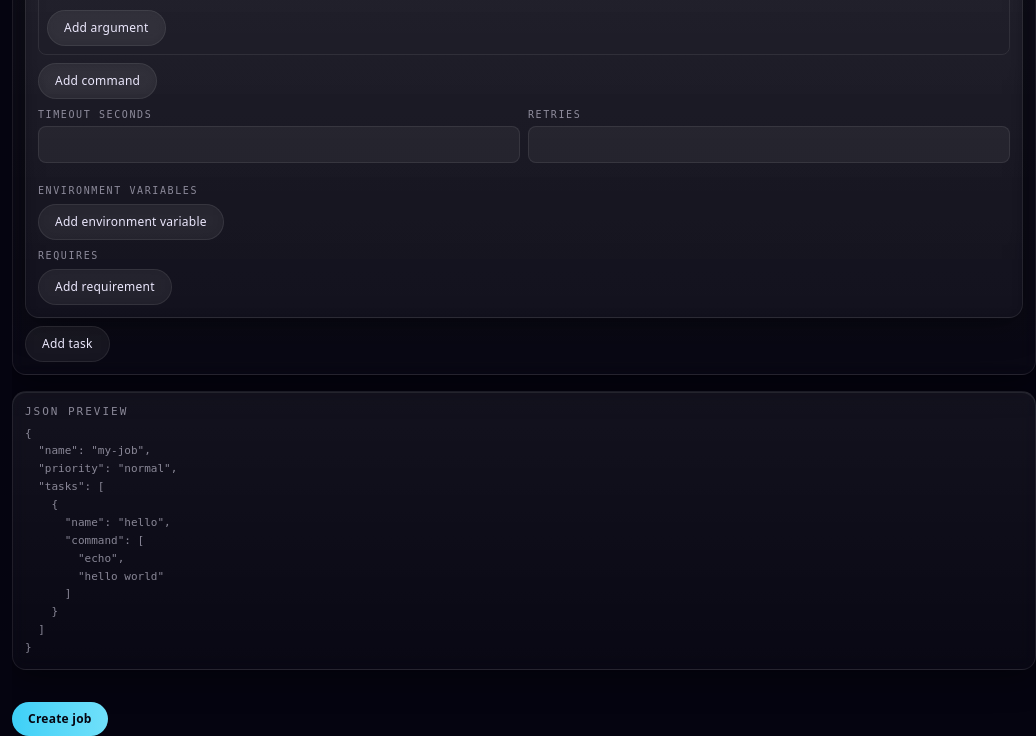
Test: the alert carries the server string verbatim, whatever its status
(page scrolled)
Click the button "Create job". click: click(60, 719)
box: [12,702,108,735]
(page scrolled)
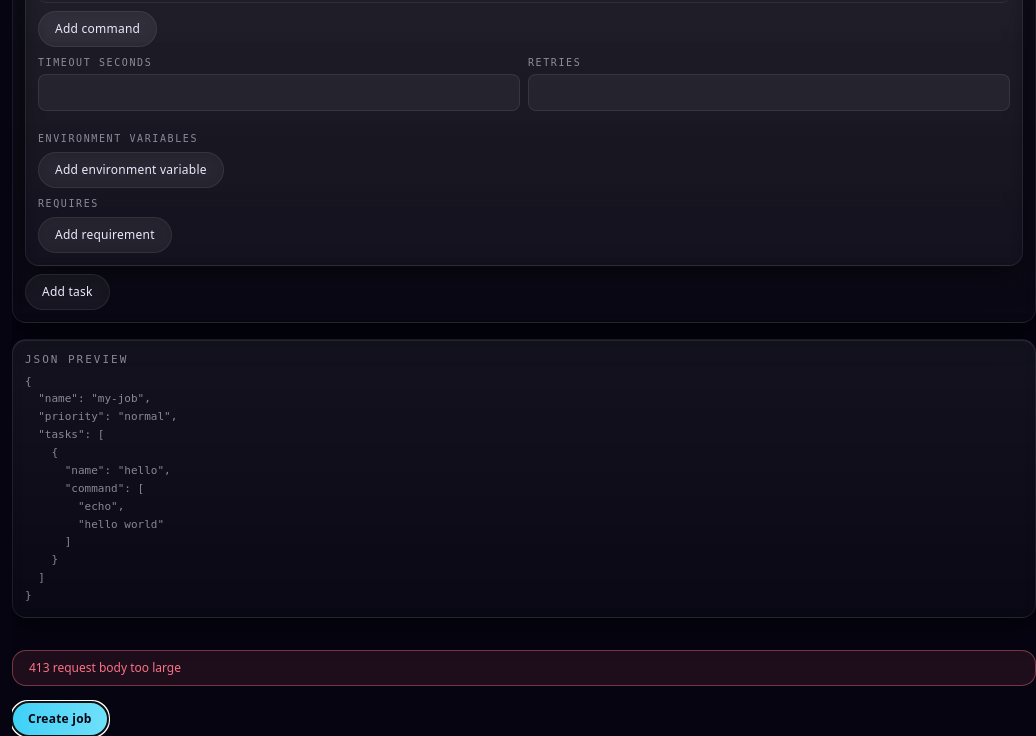
Check: the message shows "request body too large", box [29,659,181,676]
